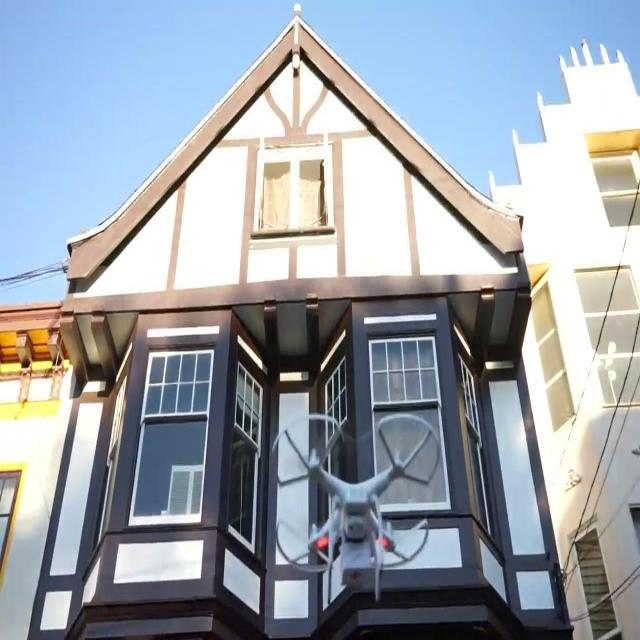UAV: (272, 414, 440, 606)
